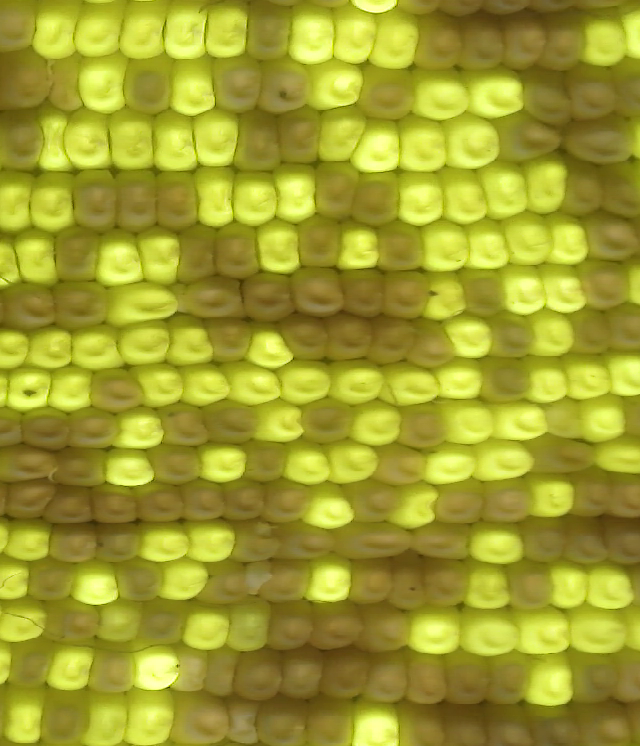fluorescent: (147, 103, 204, 174), (59, 108, 112, 174), (567, 602, 630, 657), (463, 66, 527, 120), (388, 170, 446, 229), (493, 212, 556, 266), (75, 54, 130, 114), (412, 69, 473, 123), (94, 228, 147, 290), (284, 2, 336, 65), (399, 112, 449, 177), (107, 109, 159, 171), (444, 113, 500, 169), (109, 280, 178, 325), (217, 359, 283, 406), (190, 165, 238, 229), (26, 174, 77, 234), (274, 161, 320, 227), (312, 106, 367, 161), (251, 218, 302, 277), (160, 4, 210, 64), (370, 11, 420, 71), (325, 361, 389, 407), (193, 109, 243, 167), (137, 224, 184, 285), (170, 61, 220, 118), (478, 165, 528, 222), (202, 2, 249, 62), (378, 362, 442, 406), (352, 120, 404, 174), (516, 608, 574, 656), (335, 6, 381, 66), (523, 655, 574, 709), (420, 219, 470, 274), (579, 11, 628, 67), (306, 64, 364, 111), (526, 154, 569, 217), (235, 169, 280, 229), (37, 106, 75, 177), (490, 397, 548, 443), (120, 7, 168, 62), (122, 693, 177, 741), (10, 229, 57, 285), (168, 312, 214, 369), (75, 8, 126, 59), (441, 397, 494, 446), (69, 324, 123, 372), (4, 365, 58, 413), (178, 364, 235, 409), (246, 320, 295, 372), (133, 362, 185, 411), (31, 4, 79, 57), (499, 266, 552, 314), (443, 171, 490, 225), (120, 319, 174, 366), (409, 608, 463, 655), (301, 486, 356, 532), (475, 439, 535, 481), (462, 612, 518, 657), (252, 398, 306, 444), (278, 359, 333, 404), (281, 439, 332, 487), (543, 213, 589, 266), (23, 324, 74, 371), (390, 482, 441, 529), (563, 355, 615, 401), (327, 441, 380, 486), (138, 522, 193, 565), (463, 219, 512, 267), (589, 562, 636, 612), (133, 646, 180, 696), (527, 360, 578, 406), (335, 220, 380, 272), (47, 365, 95, 413), (4, 517, 52, 565), (186, 520, 237, 565), (436, 360, 489, 403), (423, 272, 470, 320), (528, 311, 575, 359), (352, 402, 401, 448), (428, 444, 480, 487), (194, 444, 248, 485), (157, 560, 210, 601), (463, 565, 510, 611), (0, 599, 48, 644), (47, 644, 91, 693), (451, 312, 494, 362), (70, 564, 120, 607), (102, 449, 158, 487), (469, 527, 525, 565), (84, 696, 128, 744), (0, 169, 32, 234), (311, 555, 353, 604), (531, 475, 577, 519), (353, 703, 398, 746), (551, 564, 593, 609), (6, 690, 41, 744), (184, 609, 230, 650), (588, 395, 626, 444), (117, 409, 163, 449), (546, 267, 585, 312), (595, 438, 640, 476), (606, 353, 640, 399), (0, 324, 31, 370), (0, 557, 30, 598)
nonfluorescent: (496, 109, 564, 164), (568, 113, 637, 166), (168, 688, 232, 743), (69, 166, 122, 232), (109, 167, 162, 232), (347, 170, 405, 228), (233, 109, 285, 172), (359, 65, 416, 122), (0, 51, 56, 108), (526, 434, 600, 477), (212, 51, 262, 114), (152, 170, 202, 233), (521, 72, 578, 127), (457, 11, 506, 74), (37, 687, 89, 746), (122, 57, 173, 117), (356, 603, 414, 655), (183, 276, 251, 320), (542, 6, 585, 75), (301, 396, 358, 448), (359, 649, 412, 704), (399, 648, 451, 704), (278, 645, 330, 701), (567, 643, 616, 702), (215, 223, 263, 283), (584, 211, 638, 264), (343, 522, 411, 564), (414, 12, 460, 74), (277, 103, 322, 166), (569, 65, 617, 124), (290, 266, 344, 318), (39, 599, 100, 645), (243, 271, 298, 322), (409, 316, 459, 372), (315, 161, 363, 219), (0, 108, 44, 171), (5, 280, 56, 334), (421, 557, 472, 611), (246, 4, 290, 66), (17, 408, 75, 455), (506, 12, 551, 72), (265, 599, 315, 653), (321, 646, 370, 701), (258, 60, 310, 111), (579, 260, 630, 312), (484, 476, 536, 527), (136, 599, 189, 649), (477, 355, 532, 403), (160, 403, 215, 451), (54, 283, 110, 330), (436, 699, 492, 746), (7, 639, 56, 692), (56, 227, 100, 286), (398, 403, 449, 453), (260, 556, 310, 607), (175, 223, 216, 285), (204, 399, 259, 445), (254, 699, 309, 745), (146, 441, 202, 486), (483, 651, 531, 703), (442, 648, 489, 701), (296, 217, 341, 272), (567, 466, 616, 516), (206, 312, 252, 365), (89, 367, 142, 413), (433, 483, 491, 525), (575, 701, 629, 746), (44, 54, 85, 113), (486, 308, 535, 357), (314, 602, 363, 651), (90, 643, 136, 695), (236, 650, 284, 699), (564, 519, 611, 569), (57, 446, 110, 490), (563, 306, 610, 355), (367, 317, 414, 365), (233, 518, 288, 559), (509, 565, 558, 611), (285, 520, 338, 562), (414, 523, 474, 560), (307, 701, 356, 746), (383, 554, 421, 612), (526, 706, 581, 746), (395, 702, 445, 746), (388, 271, 431, 322), (70, 409, 122, 451), (0, 445, 59, 482), (464, 267, 505, 319), (600, 167, 640, 220), (341, 266, 381, 319), (48, 485, 101, 525), (31, 557, 77, 603), (381, 223, 425, 271), (325, 317, 373, 361), (201, 559, 247, 604), (116, 560, 163, 604), (6, 477, 54, 520), (564, 166, 604, 217), (483, 703, 530, 746), (348, 478, 390, 525), (520, 517, 563, 562), (138, 483, 186, 523), (348, 556, 388, 604), (243, 439, 286, 483), (285, 317, 327, 362), (609, 57, 640, 117), (0, 3, 37, 53), (378, 450, 423, 491), (96, 483, 141, 524), (605, 470, 640, 522), (201, 644, 238, 693), (99, 524, 144, 564), (51, 529, 100, 564), (227, 477, 268, 518), (265, 480, 309, 518), (606, 522, 640, 571), (184, 481, 226, 520), (177, 645, 209, 695), (228, 698, 260, 744)
